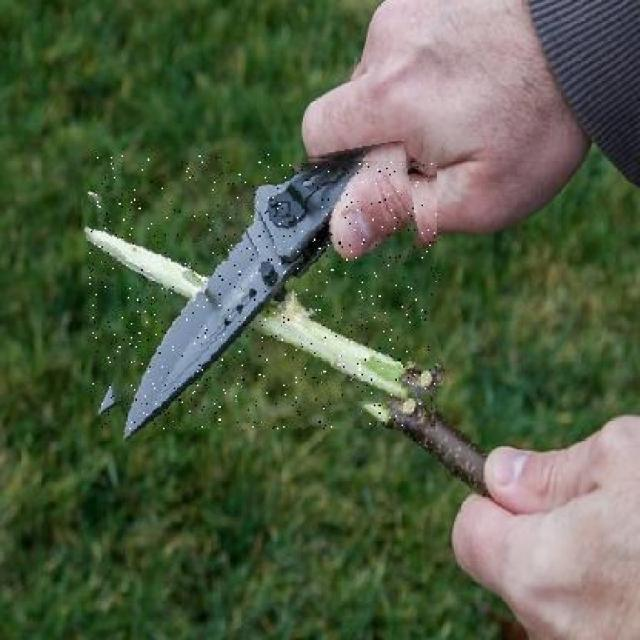knife: (89, 154, 437, 430)
